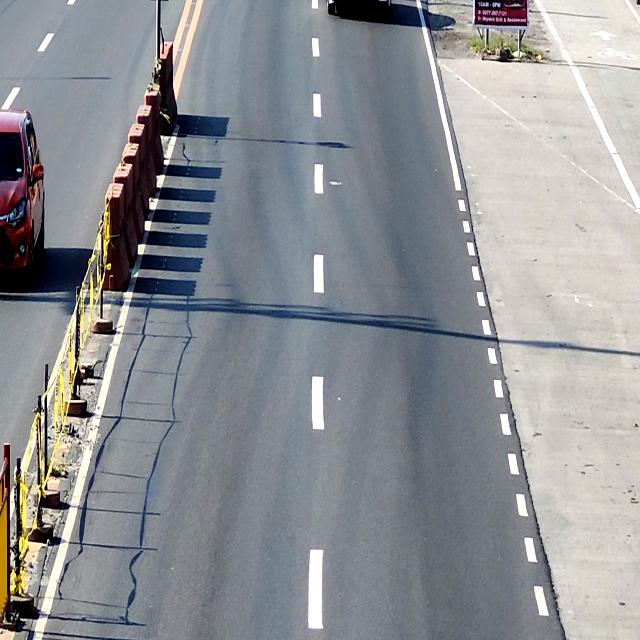Car: (0, 108, 45, 284)
